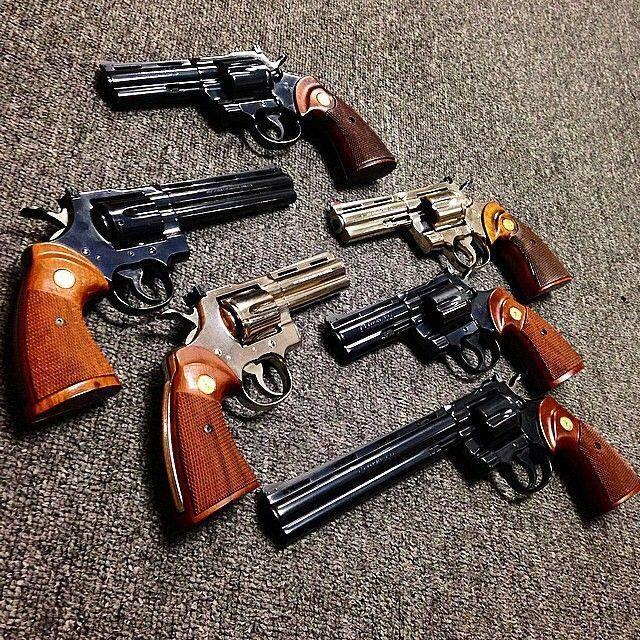revolver: (58, 1, 418, 194)
